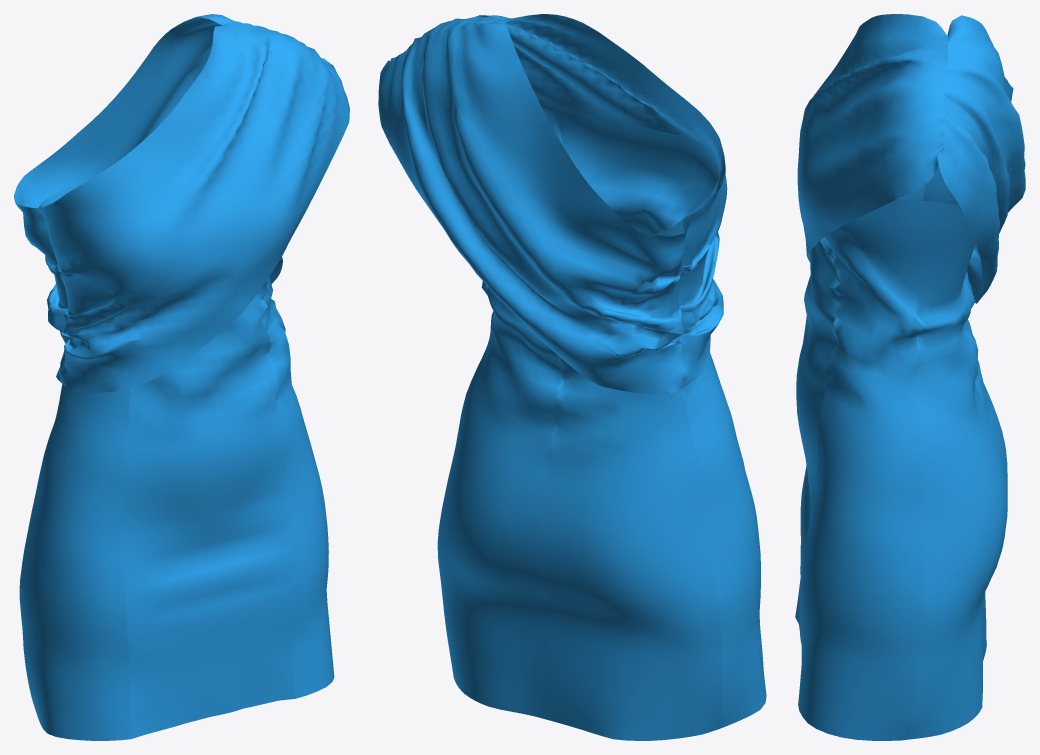
The model's file is 13_POPPI_F.fbx.
3 renders of one model, left to right at view 1: azimuth 30°, elevation 25°; view 2: azimuth 150°, elevation 25°; view 3: azimuth 270°, elevation 25°, orthographic. The views are drawn at different scales.
Visible parts, largest first — view 1: 13_POPPI_F; view 2: 13_POPPI_F; view 3: 13_POPPI_F.
Boxes of the visible parts, <box> form: 13_POPPI_F: <box>14,14,349,740</box>; 13_POPPI_F: <box>378,14,766,740</box>; 13_POPPI_F: <box>795,14,1025,740</box>.
Bounding box in the file's own units: 0.4337 × 0.8127 × 0.2467.
